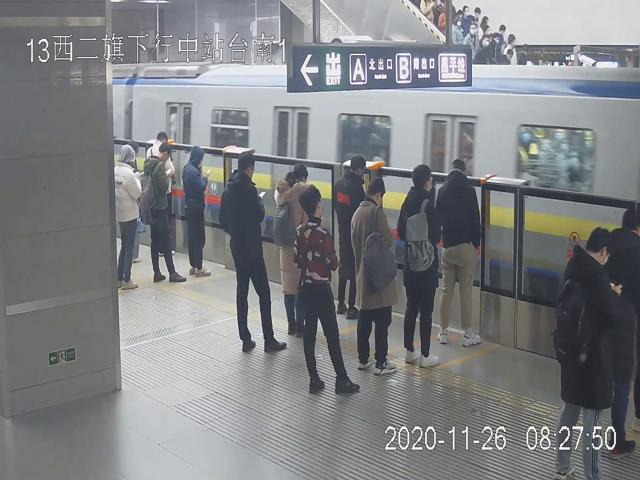person: (552, 226, 619, 480), (220, 148, 287, 352), (294, 184, 358, 395), (351, 176, 399, 375), (397, 164, 441, 370), (438, 159, 482, 348), (142, 141, 185, 283), (277, 159, 310, 337), (332, 155, 365, 318), (181, 146, 214, 277), (114, 145, 142, 292)
